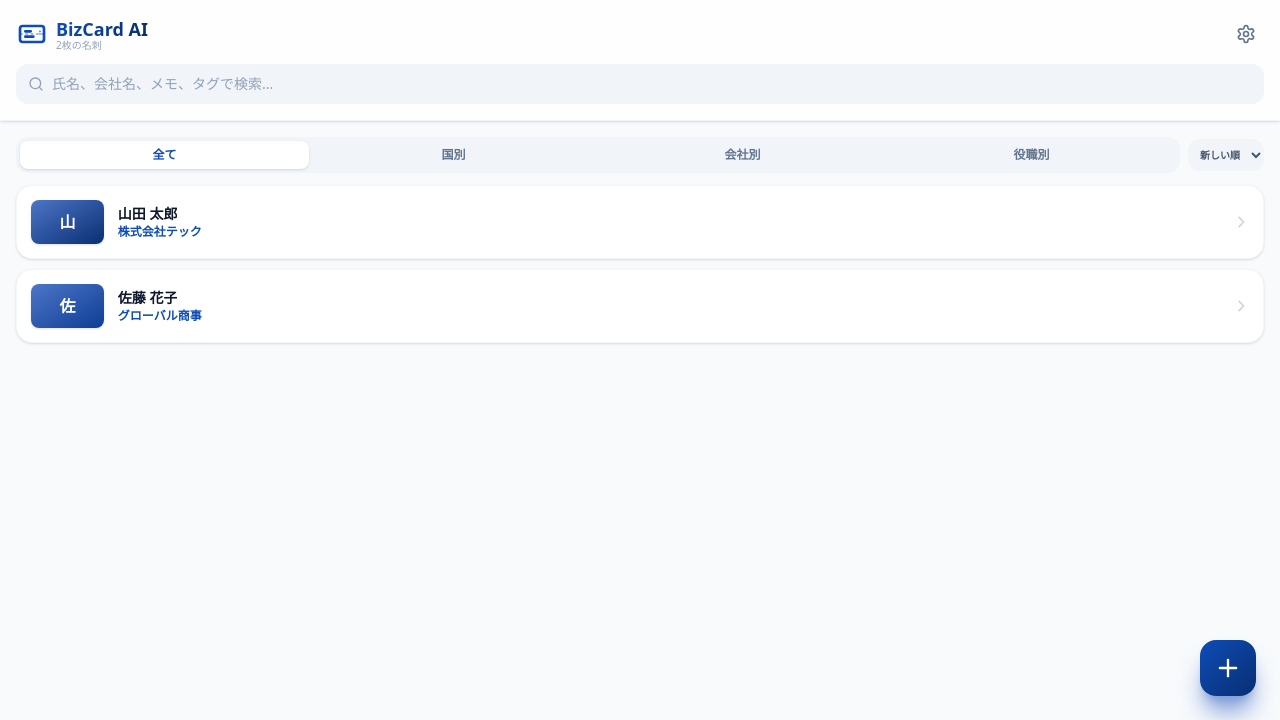
CardListView 検索 › メモの内容で絞り込める
Type "展示会" into the field with placeholder "氏名、会社名、メモ、タグで検索..." at (640, 84), box x1=16 y1=64 x2=1264 y2=104
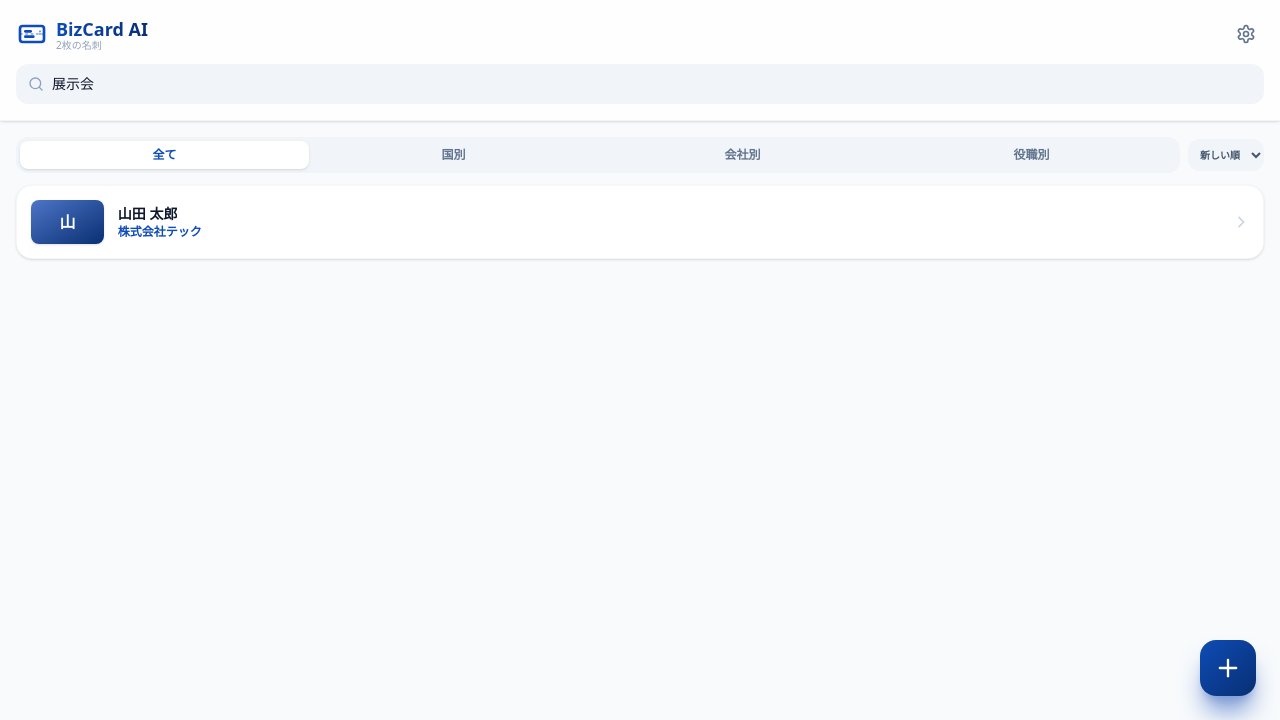
Check: the heading "山田 太郎" is shown, box x1=118 y1=205 x2=177 y2=222
Check: the button "佐藤 花子" is gone
